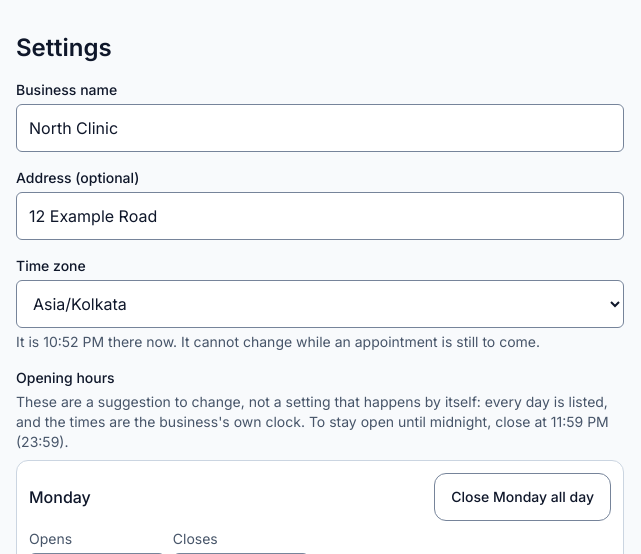
Test: the owner settings screen › saving sends only the field that changed, then reads the business again
Replace the text in the field labelled "Business name" with "South Clinic". click: point(320, 128)
box: [16,104,624,152]
(page scrolled)
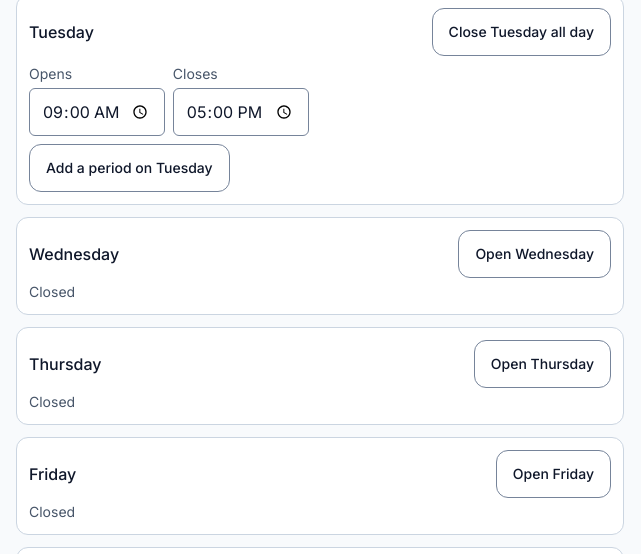
Submit the form named "Save"
(page scrolled)
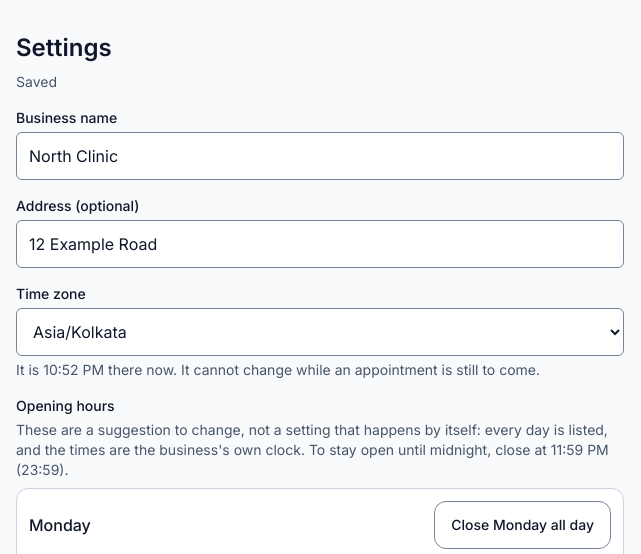
Result: the message reads "Saved" at [16,73,57,90]
